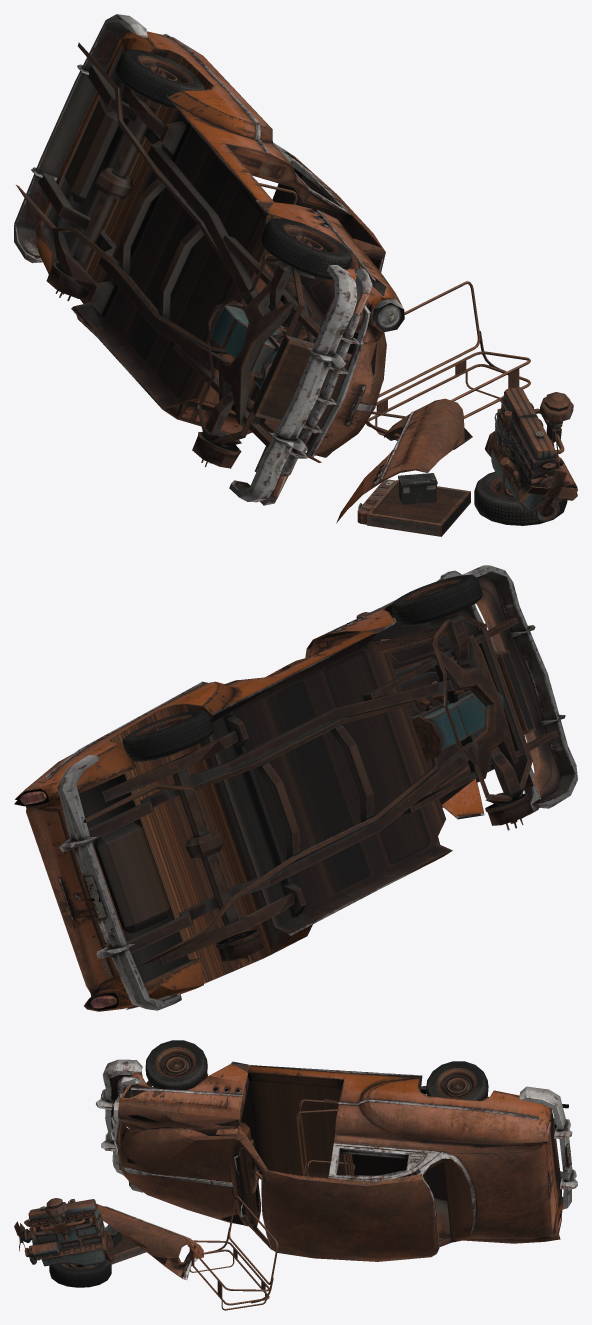
The model's file is OldCar1.fbx.
The picture shows the model from 3 angles, top to bottom: view 1: azimuth 30°, elevation 25°; view 2: azimuth 150°, elevation 25°; view 3: azimuth 270°, elevation 25°; orthographic projection. The views are drawn at different scales.
Parts seen in each view (by area): view 1: car; view 2: car; view 3: car.
Boxes of the visible parts, x1=… form: car: x1=14, y1=14, x2=577, y2=536; car: x1=14, y1=565, x2=577, y2=1011; car: x1=14, y1=1040, x2=577, y2=1310.
Size of what is drawn, in the model's own units: 261 by 185 by 522.
